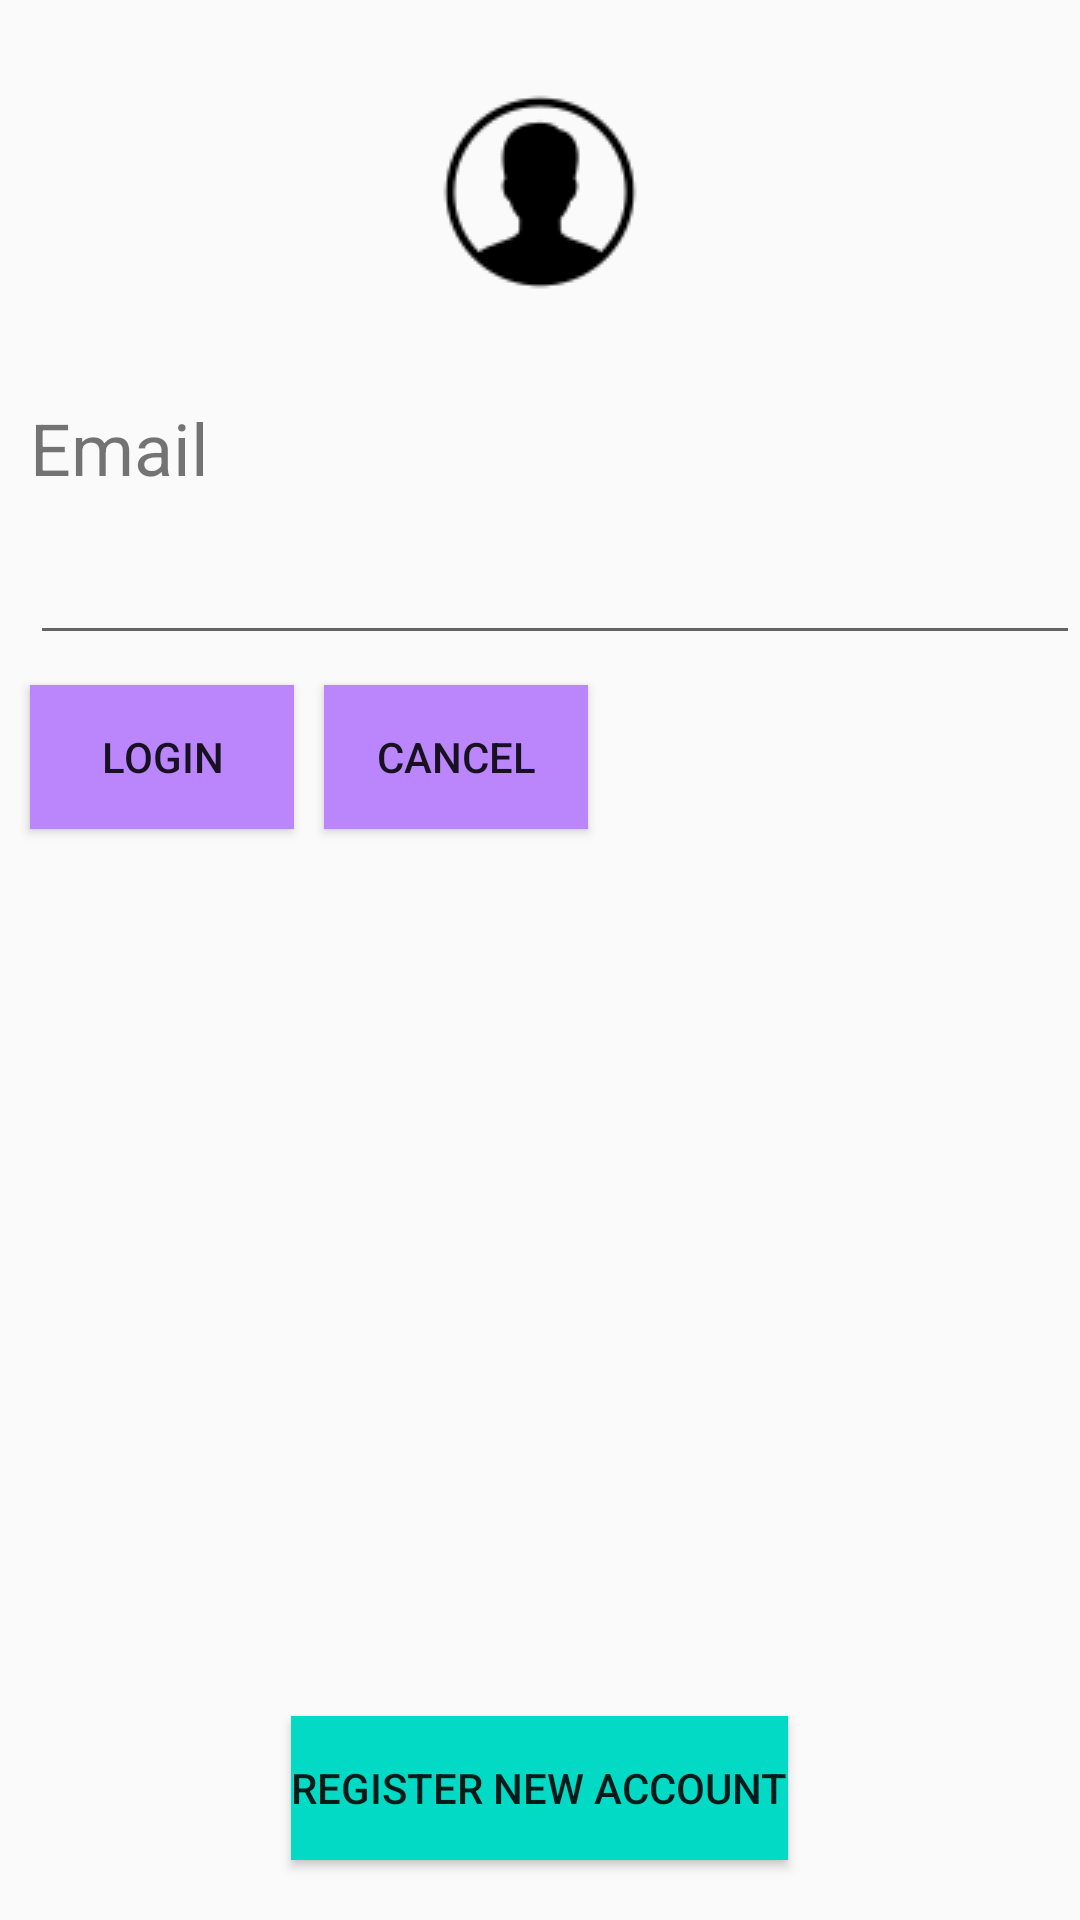

Screen size 1080 × 1920. Icon name, then its center in pixels as (x,y):
user: (540,192)
